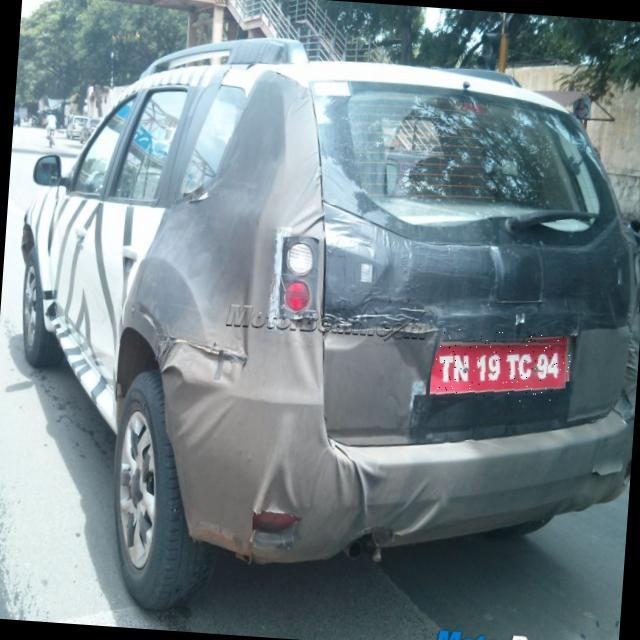Plate: (431, 328, 573, 406)
